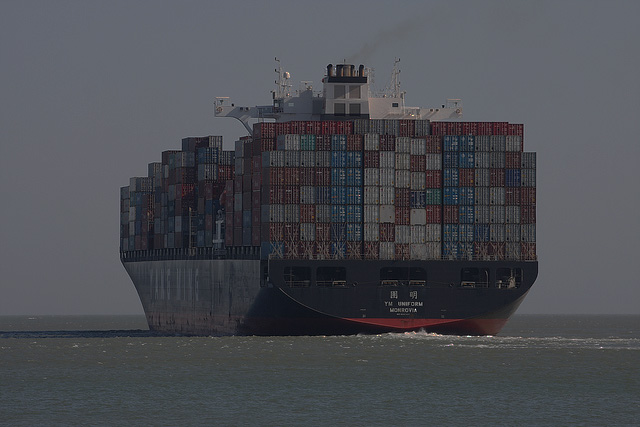container_ship: (121, 56, 538, 337)
